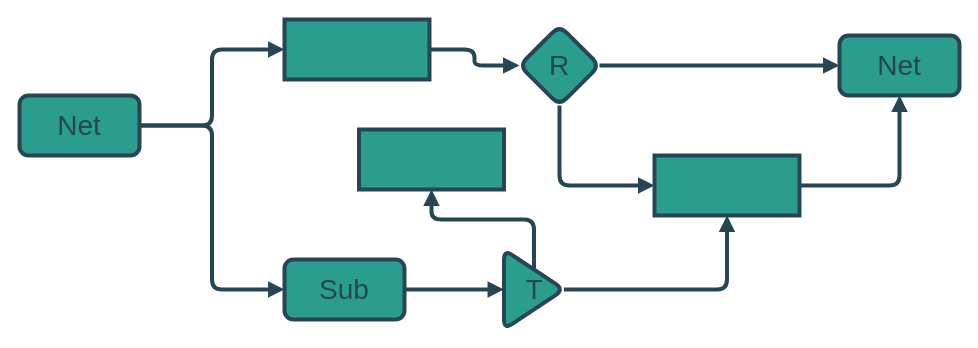
Image size: 978x348. Some labels were removed from this diagram. Each missing label, with the box of its shape:
New FIFO: (282, 17, 431, 81)
Old FIFO: (652, 153, 801, 217)
Sub Topics: (356, 127, 506, 191)
